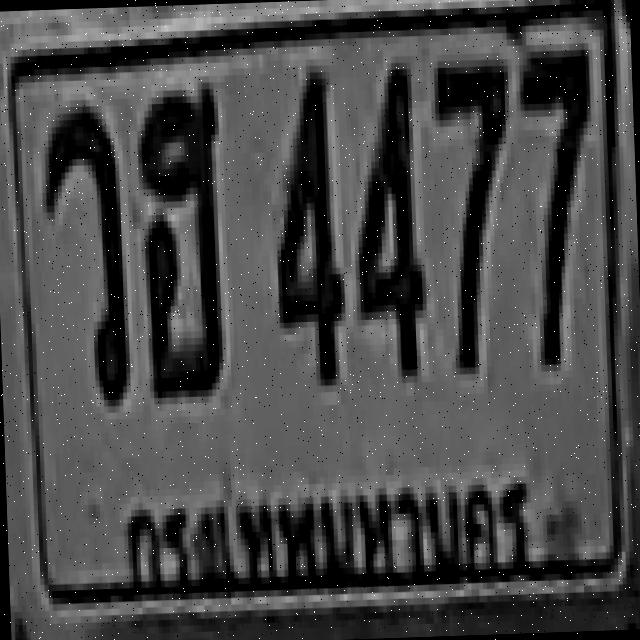4: (266, 61, 344, 378), (348, 55, 425, 371)
46WorWaen: (39, 98, 127, 401)
53HorNokHook: (136, 82, 224, 392)
7: (429, 52, 514, 368), (518, 42, 595, 364), (429, 55, 510, 274), (518, 42, 592, 274)
Bangkok: (108, 468, 550, 603)
